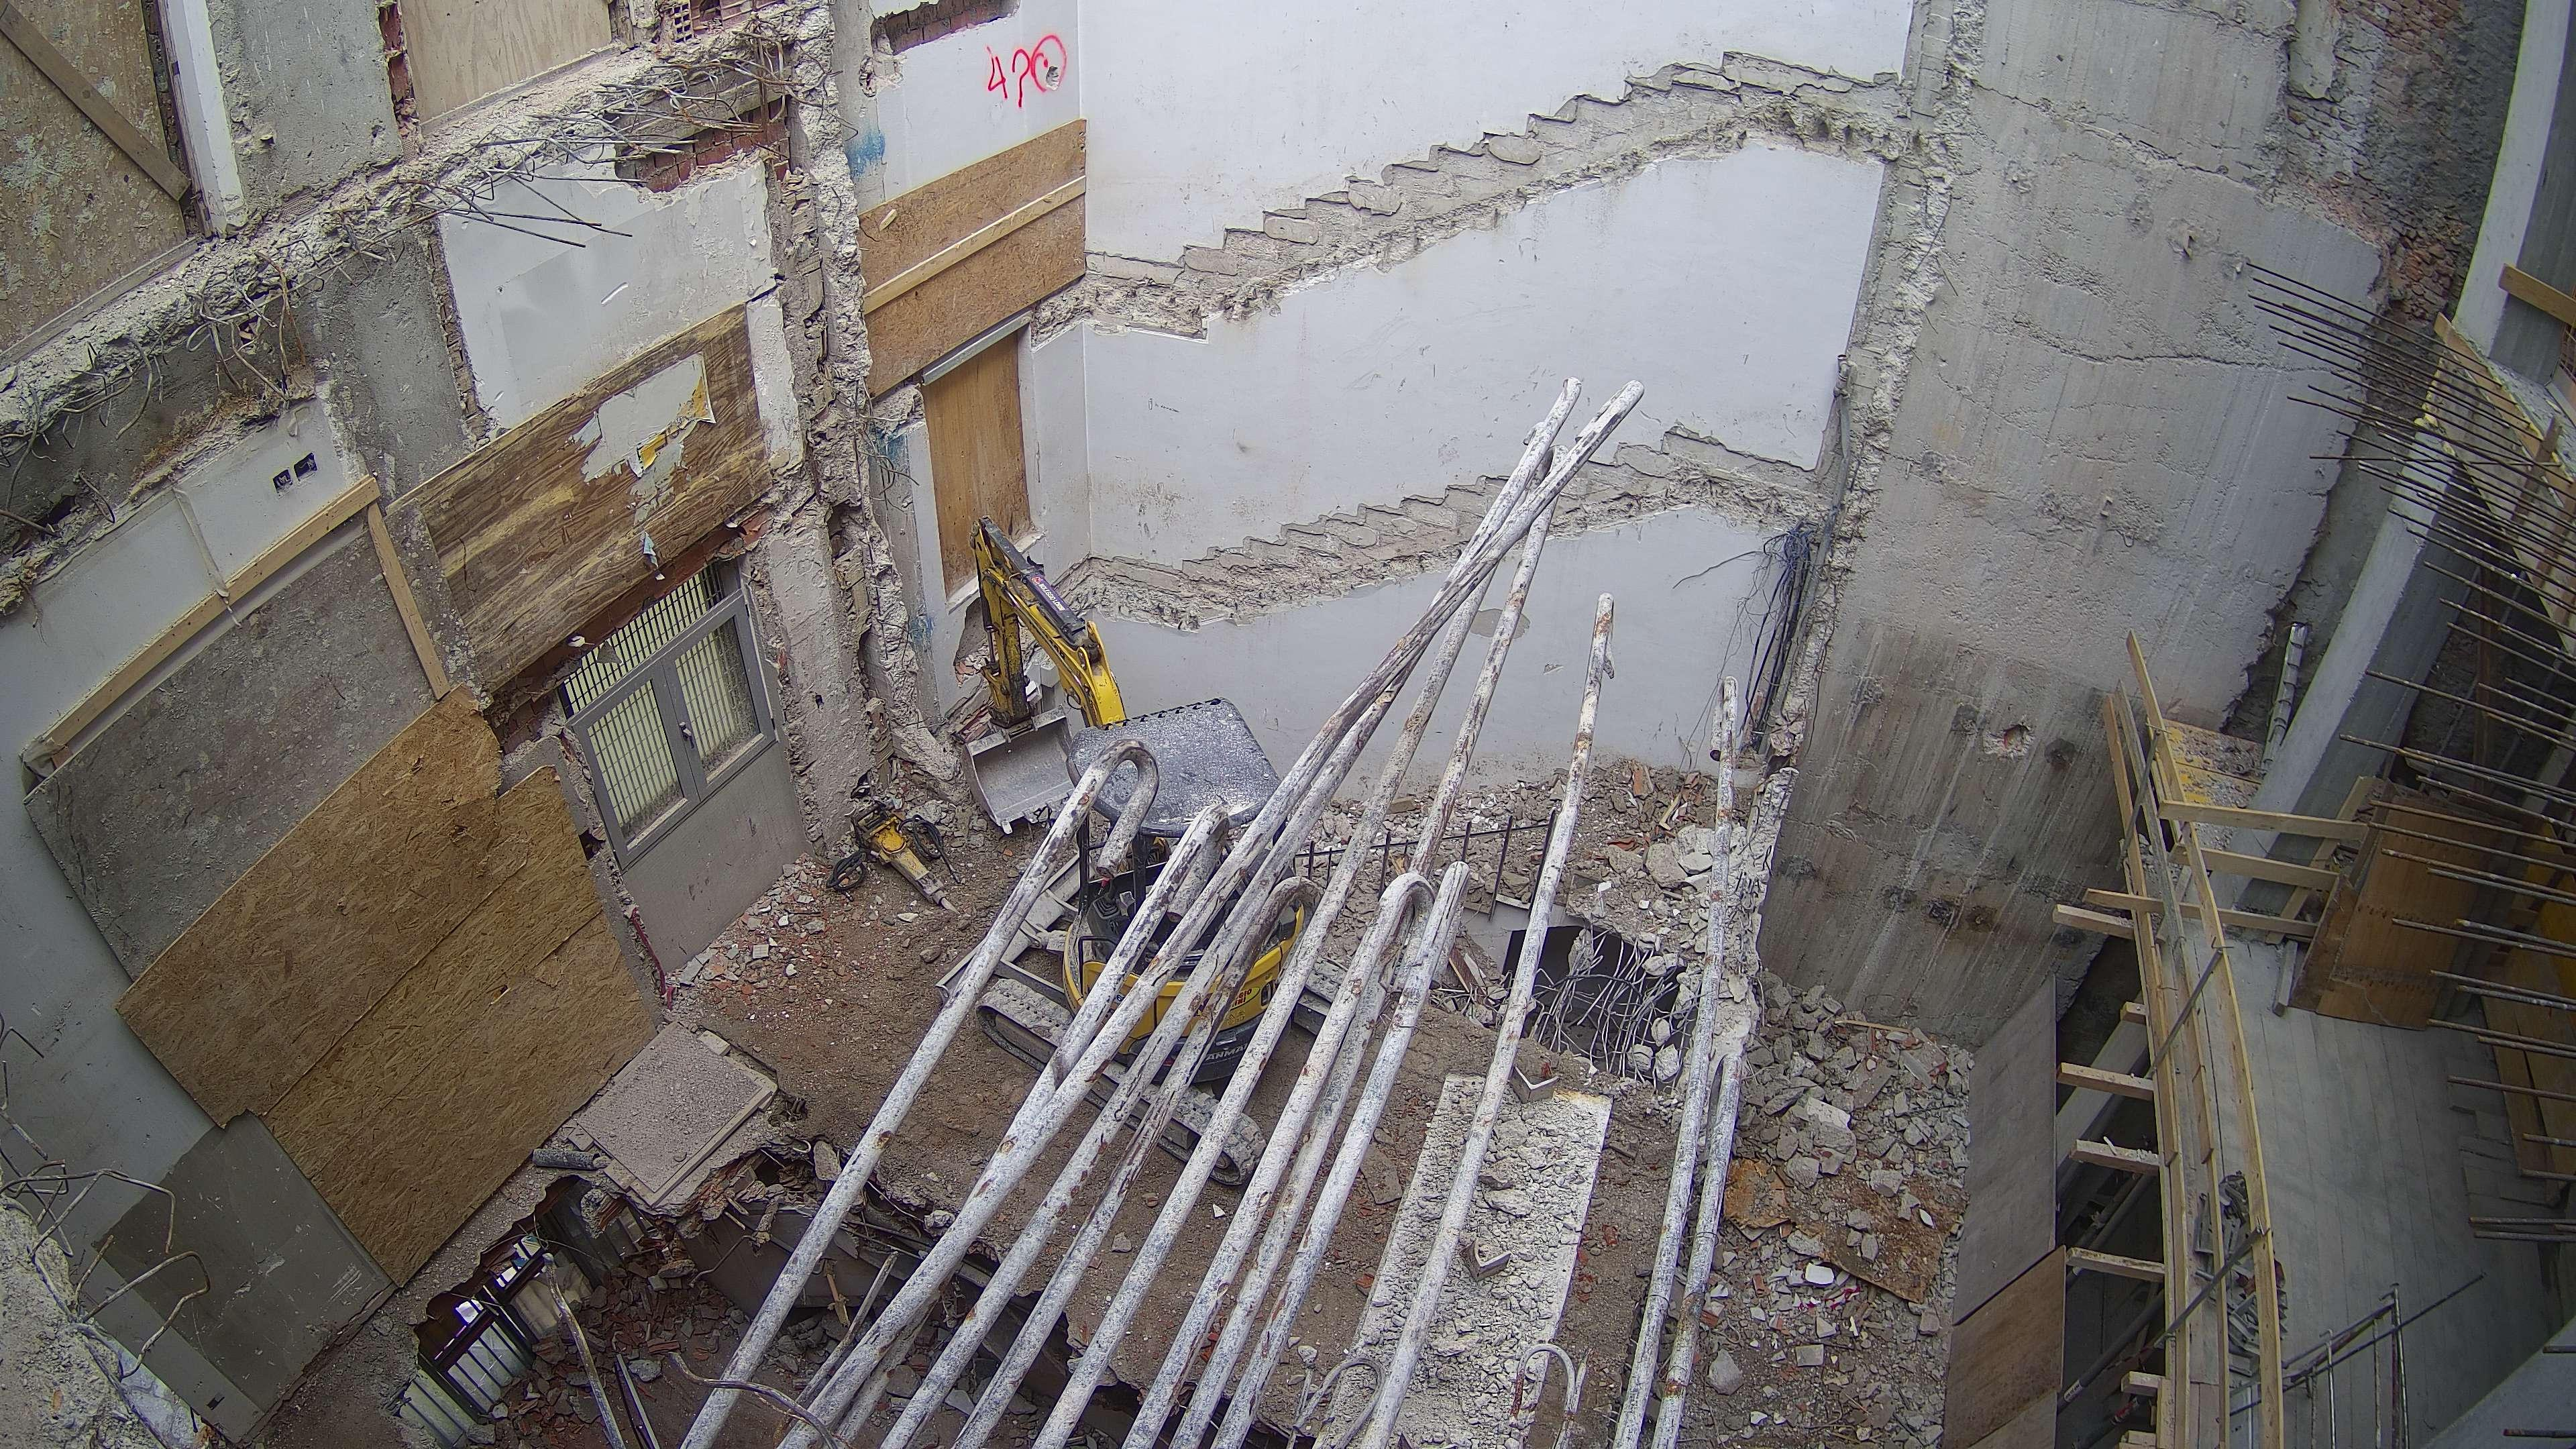excavator: (936, 515, 1350, 1185)
